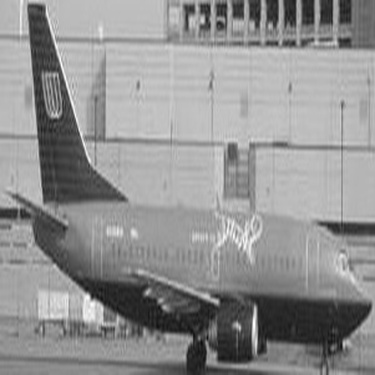airplane: (13, 1, 364, 356)
